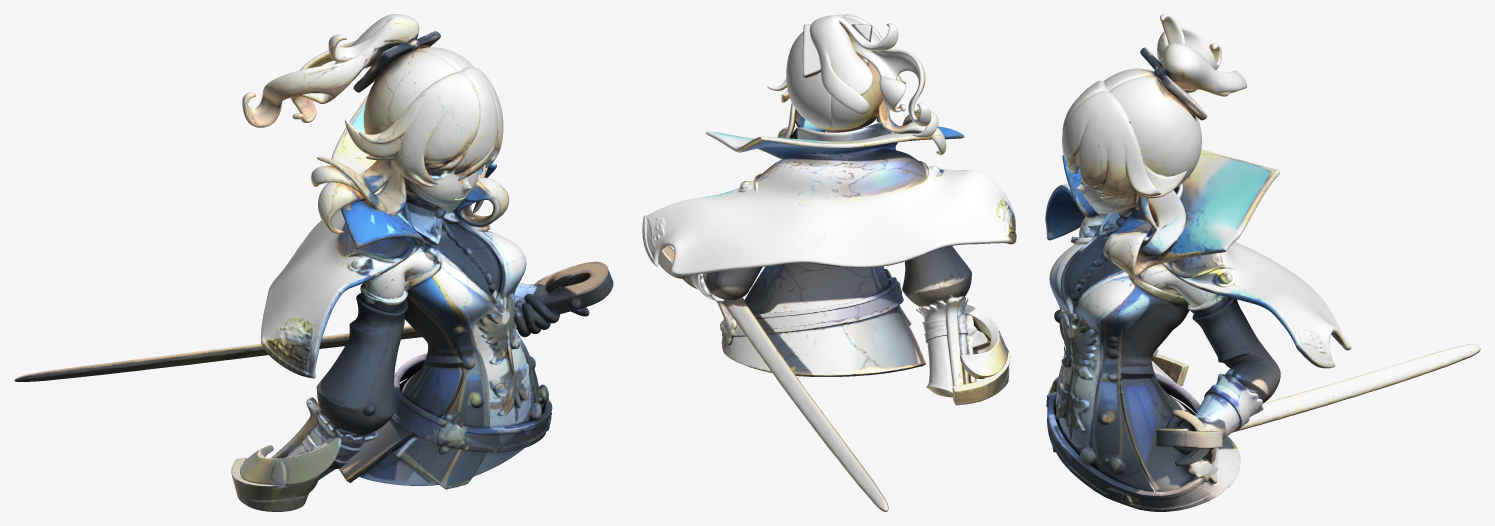
File: anime_62459_baked.glb
The picture shows the model from 3 angles, left to right: view 1: azimuth 30°, elevation 25°; view 2: azimuth 150°, elevation 25°; view 3: azimuth 270°, elevation 25°; orthographic projection. The views are drawn at different scales.
Visible parts, largest first — view 1: material.001; view 2: material.001; view 3: material.001.
Part boxes in pixels (box(x1,y1,x2,y2)): material.001: box(14, 14, 613, 511); material.001: box(642, 14, 1016, 511); material.001: box(1045, 14, 1480, 511).
Size of the model in its own units: 0.7389 by 0.6933 by 0.6625.
1 material, 1 textured.
